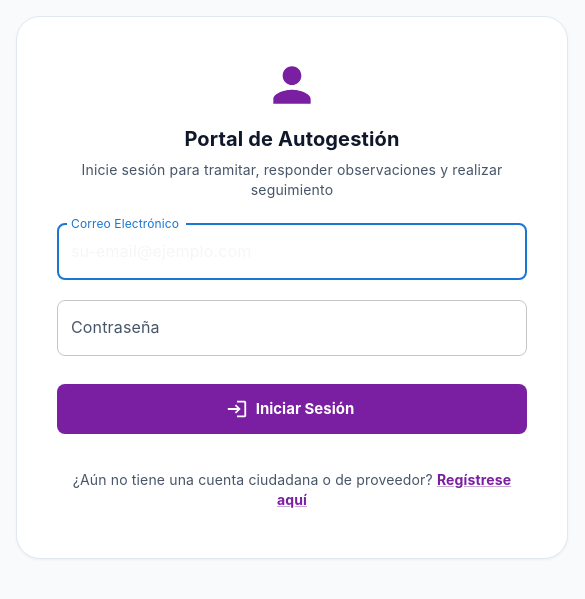
Test case: Formulario de Login Externo (Formik + Yup + a11y) › debe mostrar errores de validación Yup si los campos son inválidos o se tocan vacíos
This screenshot has width=585, height=599.
Type "email-invalido" into the field labelled "Correo Electrónico".
click(292, 252); type("email-invalido")  # box left=57, top=224, right=527, bottom=280
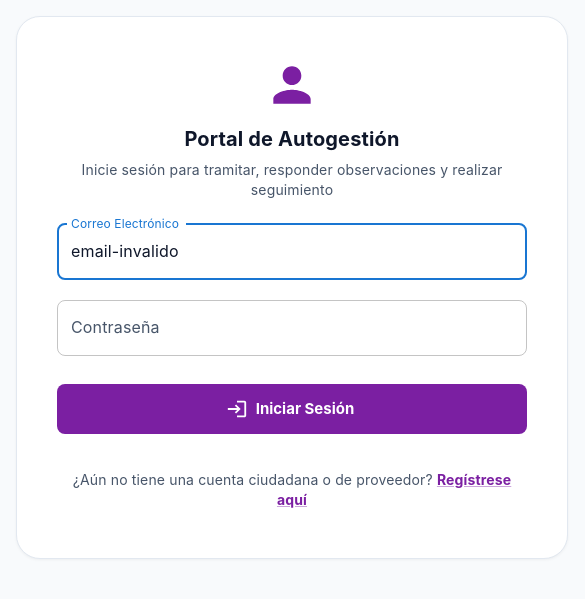
Leave the field labelled "Correo Electrónico", box left=57, top=224, right=527, bottom=280
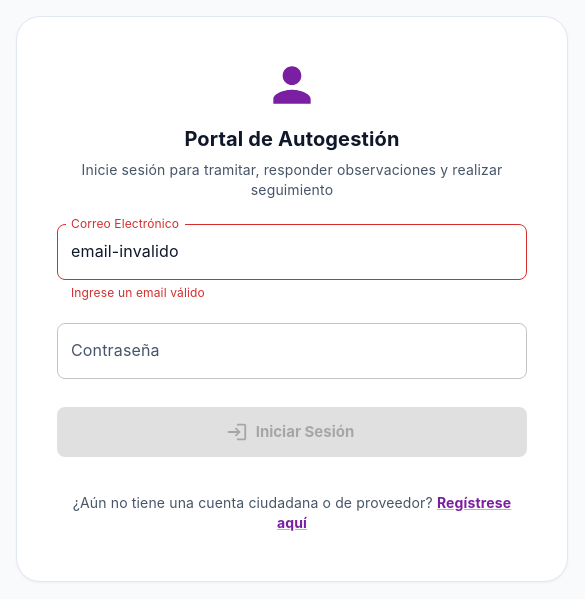
Check: the text "Ingrese un email válido" is shown, box left=71, top=285, right=205, bottom=300
